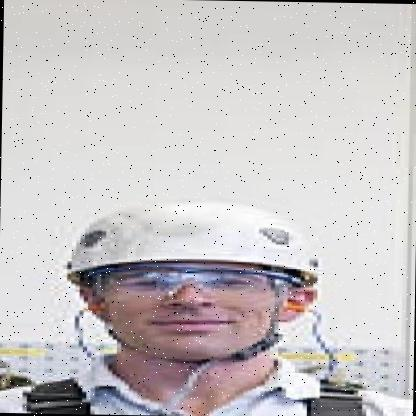oculos: (75, 262, 306, 304)
